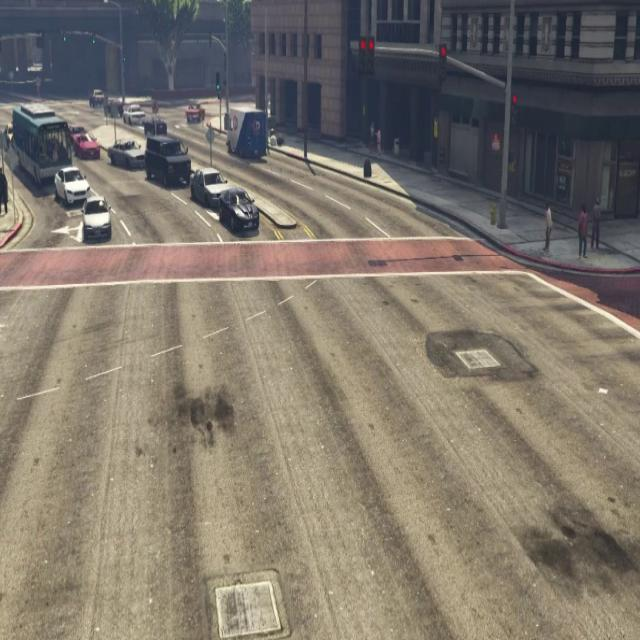Red-Signal: (351, 26, 384, 92), (502, 76, 528, 141), (434, 34, 454, 89)
